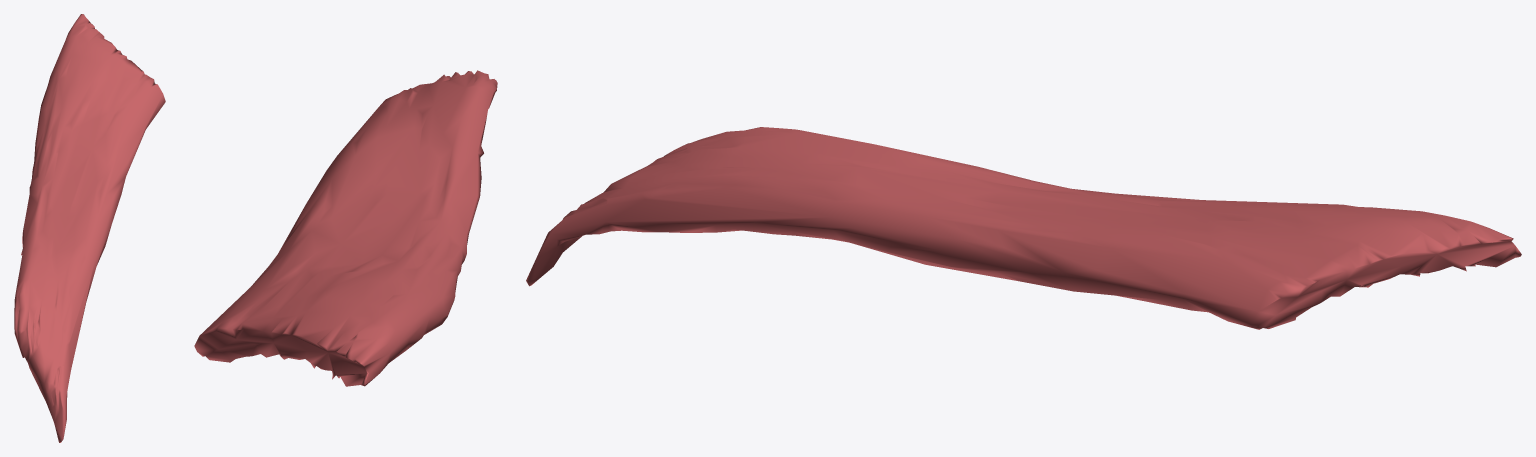
The picture shows the model from 3 angles, left to right: view 1: azimuth 30°, elevation 25°; view 2: azimuth 210°, elevation 25°; view 3: azimuth 270°, elevation 25°; orthographic projection. The views are drawn at different scales.
Parts seen in each view (by area): view 1: 左侧小菱形肌; view 2: 左侧小菱形肌; view 3: 左侧小菱形肌.
Part boxes in pixels (x1=…): 左侧小菱形肌: x1=14, y1=14, x2=165, y2=442; 左侧小菱形肌: x1=194, y1=70, x2=497, y2=386; 左侧小菱形肌: x1=526, y1=127, x2=1521, y2=329.
Bounding box in the file's own units: 0.0963 × 0.0511 × 0.1489.
